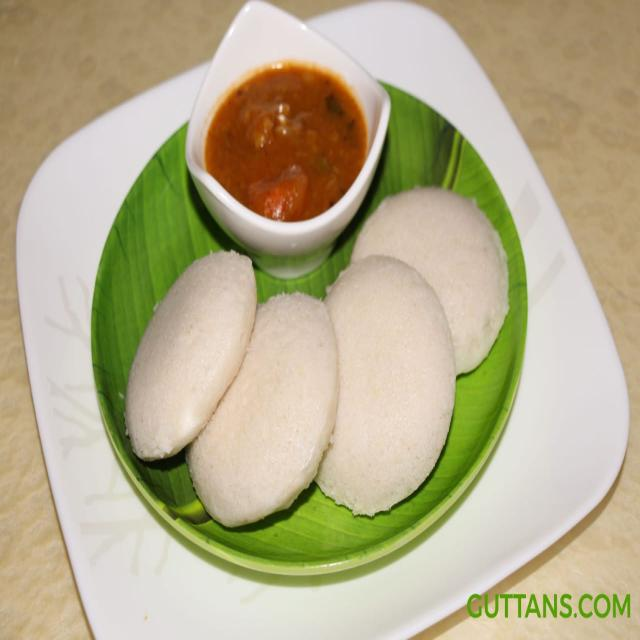Idly: (188, 284, 342, 540), (323, 259, 459, 524), (361, 169, 515, 391), (124, 240, 257, 475)
